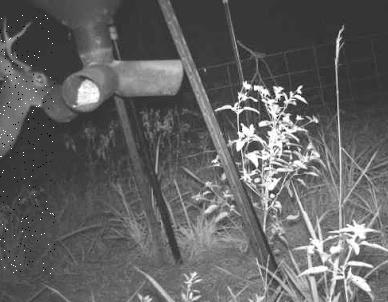Deer: (0, 15, 55, 274)
